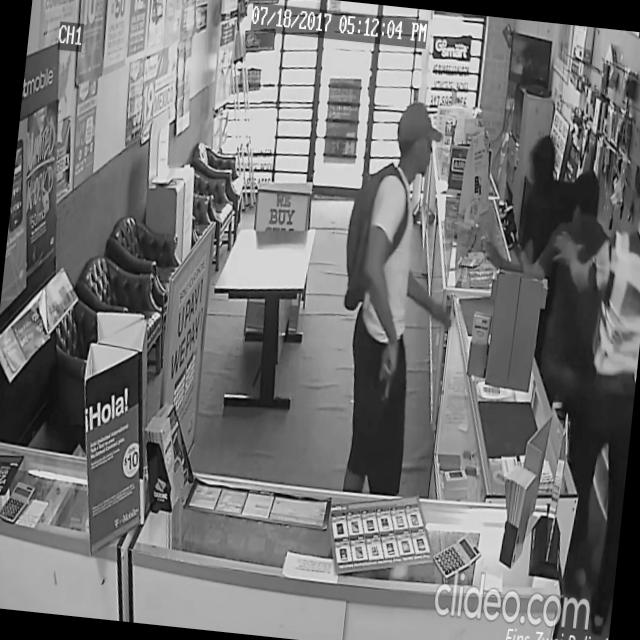gun: (371, 344, 399, 429)
person: (449, 158, 635, 554), (511, 141, 640, 638), (490, 129, 586, 374)
person with a gun: (318, 92, 477, 500)
